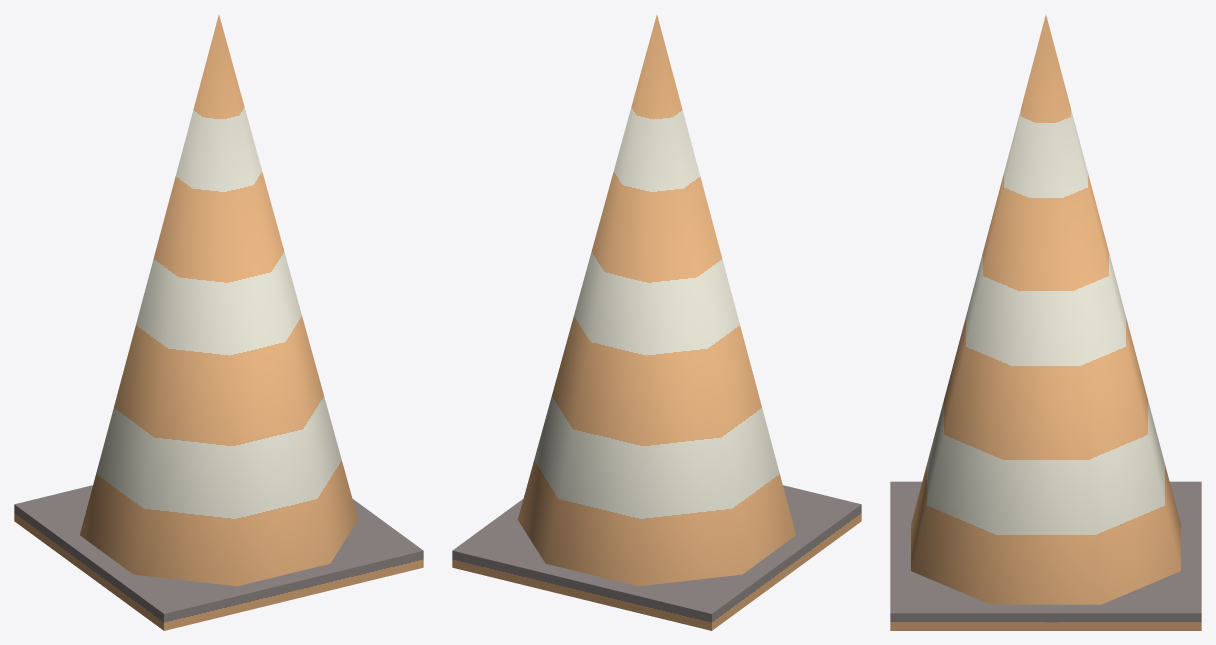
File: 0473_Jumbo_Pylon.glb
The picture shows the model from 3 angles, left to right: view 1: azimuth 30°, elevation 25°; view 2: azimuth 150°, elevation 25°; view 3: azimuth 270°, elevation 25°; orthographic projection. The views are drawn at different scales.
Visible parts, largest first — view 1: part_0; view 2: part_0; view 3: part_0.
Part boxes in pixels (<box>): part_0: <box>14,15,423,630</box>; part_0: <box>452,15,861,630</box>; part_0: <box>890,15,1201,630</box>.
Bounding box in the file's own units: 1.28 × 2.5 × 1.28.
Materials: 1 (1 with a texture image).
